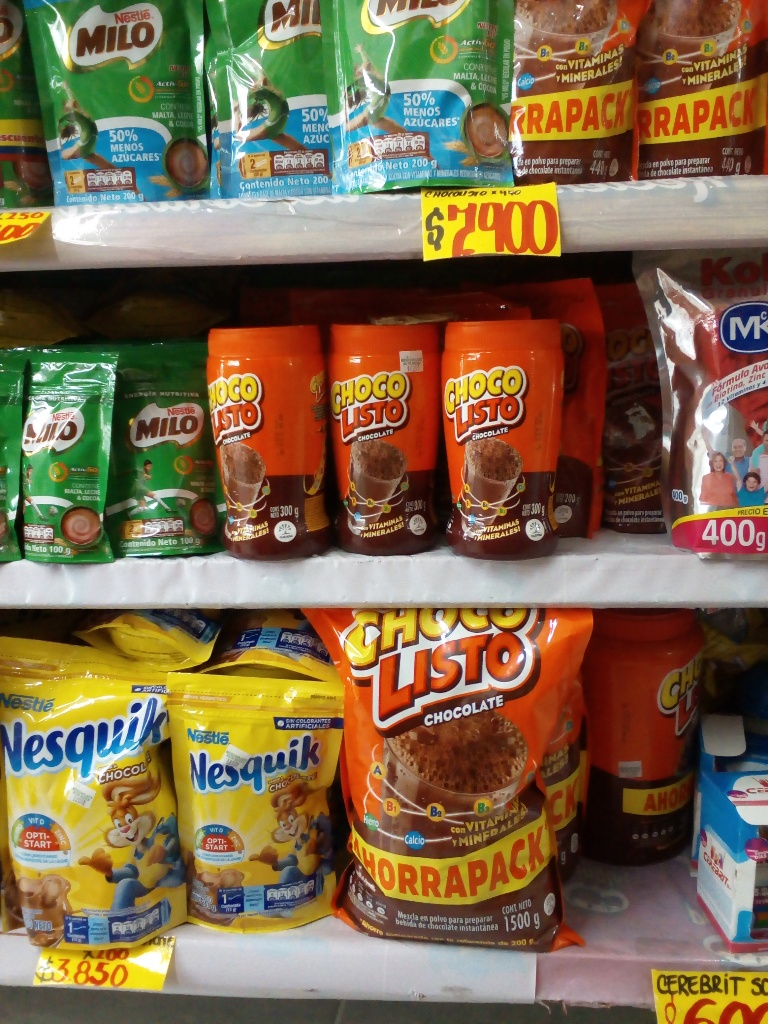COL0170103DYP1,500: (326, 606, 584, 948)
COL0170103DYP44000: (514, 2, 643, 181)
COL0170103TRR00100: (582, 615, 694, 868)
COL0170103TRR30000: (204, 328, 334, 551)
COL0170203DYP10000: (19, 345, 117, 565)
COL0170205DYP20000: (30, 0, 226, 205)
COL0170303DYP20000: (172, 671, 342, 934)
